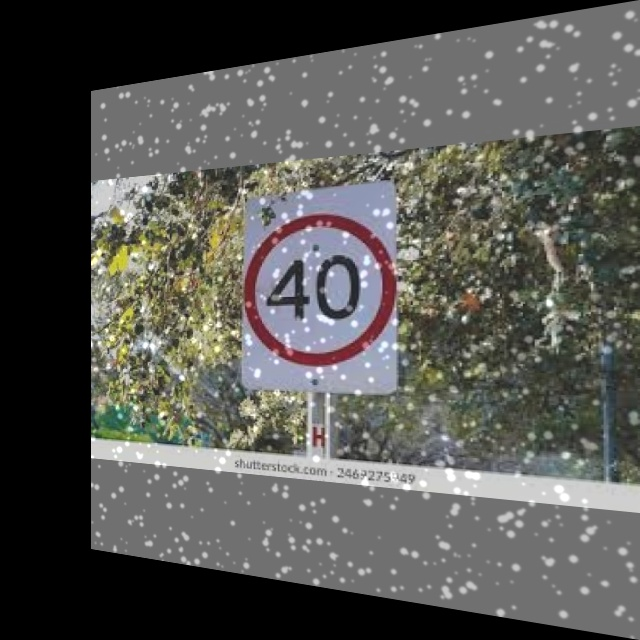Speed_Limit_40: (239, 209, 401, 371)
